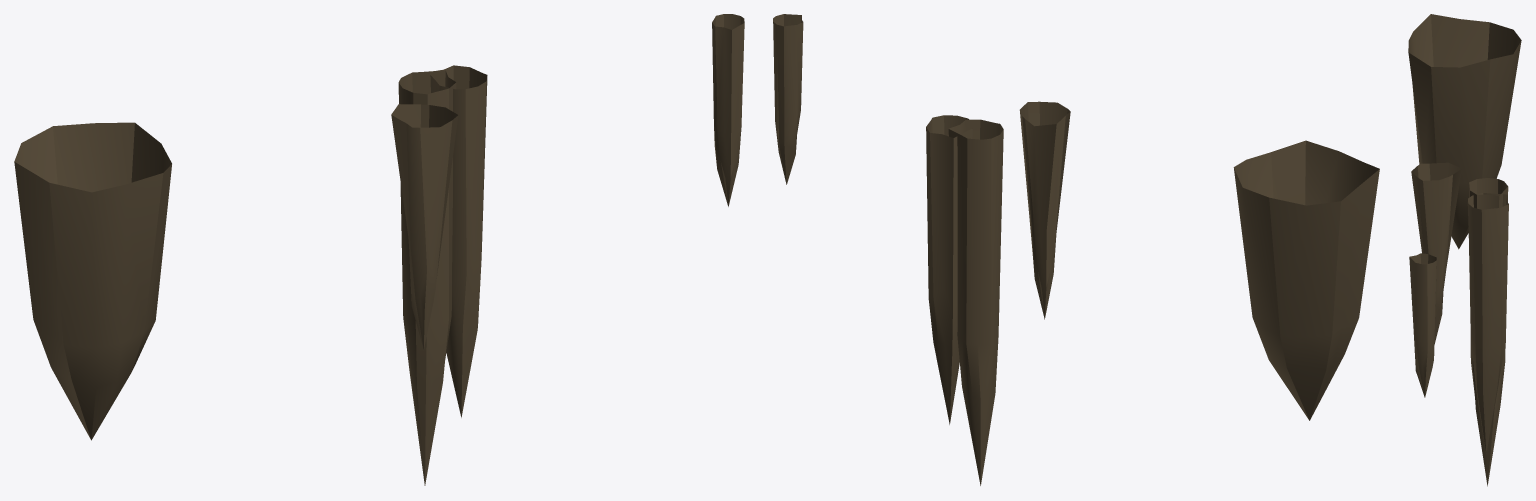
The model's file is stalagtite_2.fbx.
3 renders of one model, left to right at view 1: azimuth 30°, elevation 25°; view 2: azimuth 150°, elevation 25°; view 3: azimuth 270°, elevation 25°, orthographic. The views are drawn at different scales.
Visible parts, largest first — view 1: stalactite_2; view 2: stalactite_2; view 3: stalactite_2.
Boxes of the visible parts, x1=… form: stalactite_2: x1=14, y1=14, x2=744, y2=485; stalactite_2: x1=773, y1=14, x2=1379, y2=485; stalactite_2: x1=1408, y1=14, x2=1521, y2=486.
Size of the model in its own units: 0.0343 by 0.0206 by 0.00655.
